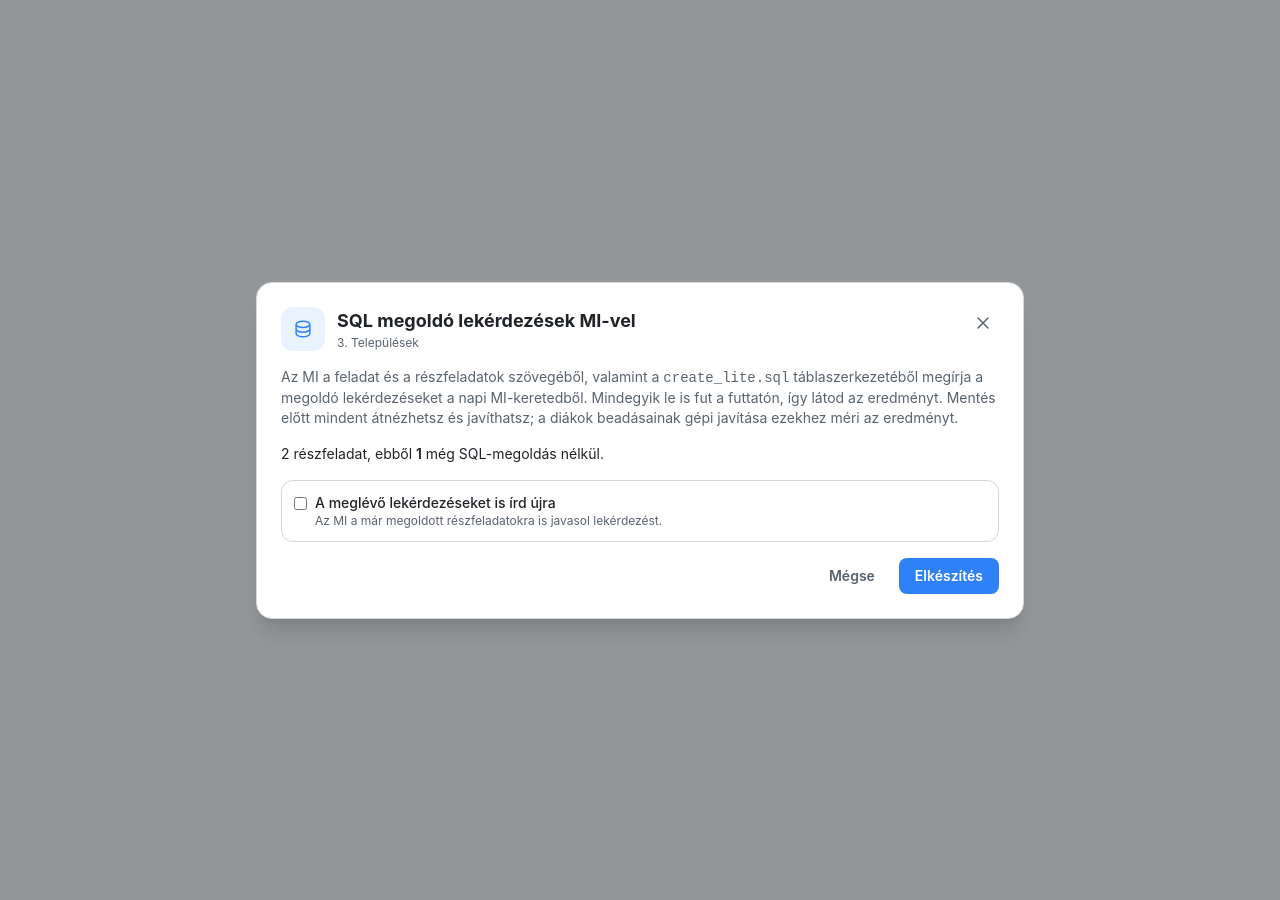
SqlLekerdezesekComponent › a BE hibaüzenetét mutatja
Click the button "Elkészítés" at x=949, y=576, box [899,558,999,594]
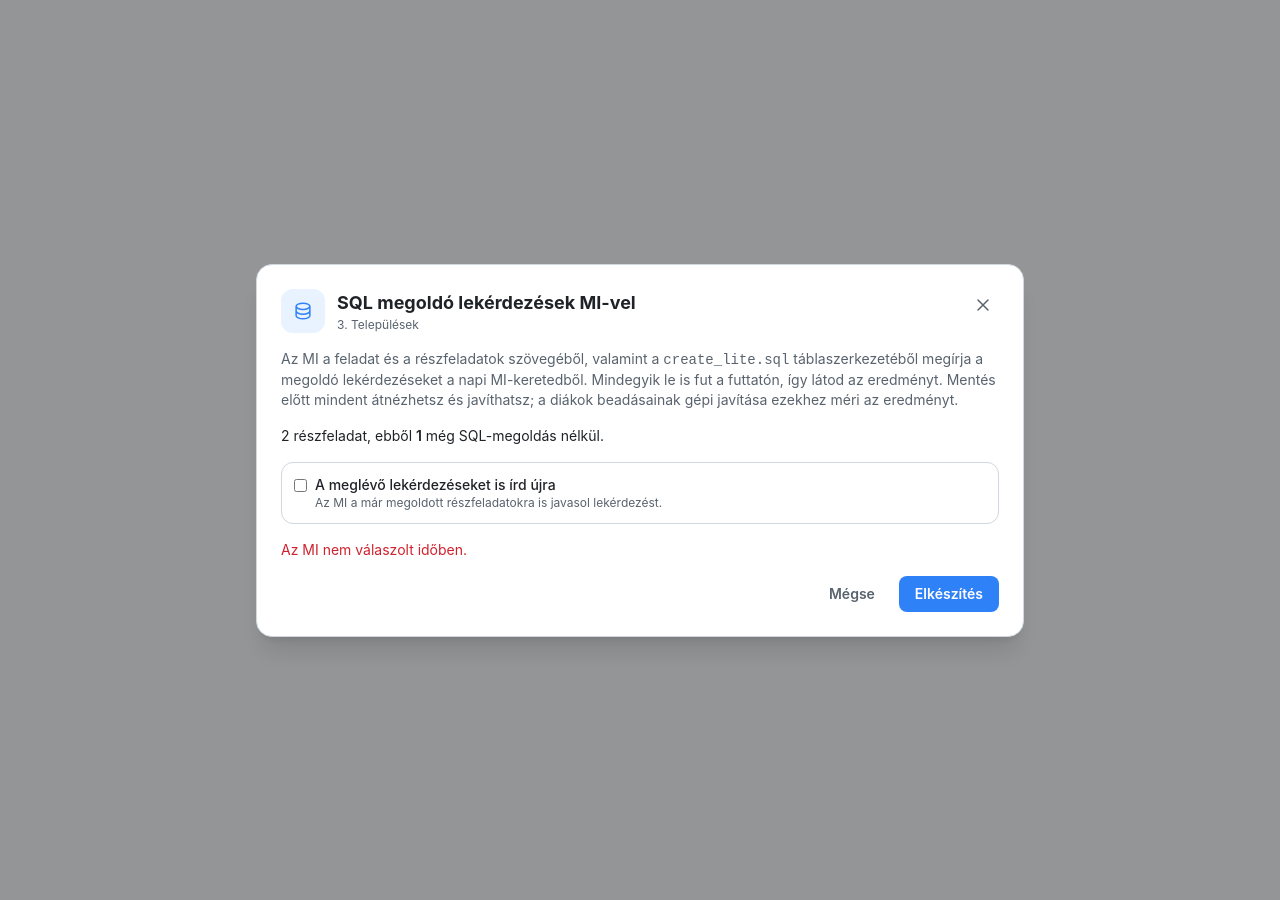
Result: the message "Az MI nem válaszolt időben." is shown at [281,540,467,558]
